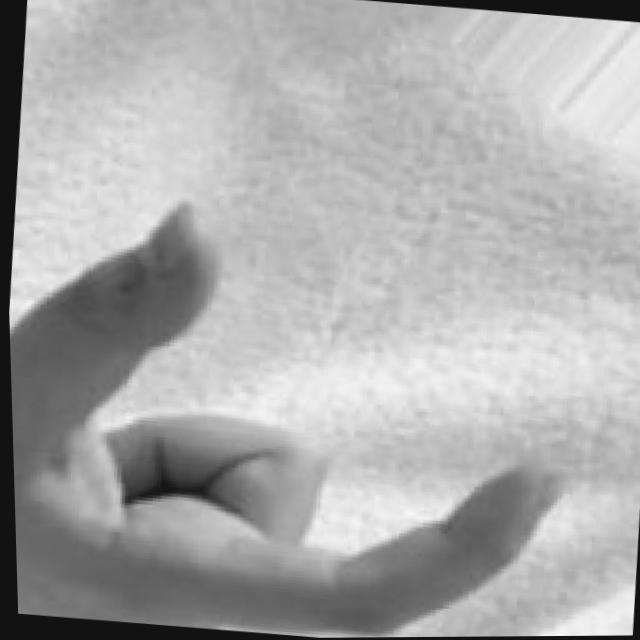U: (5, 177, 596, 640)
